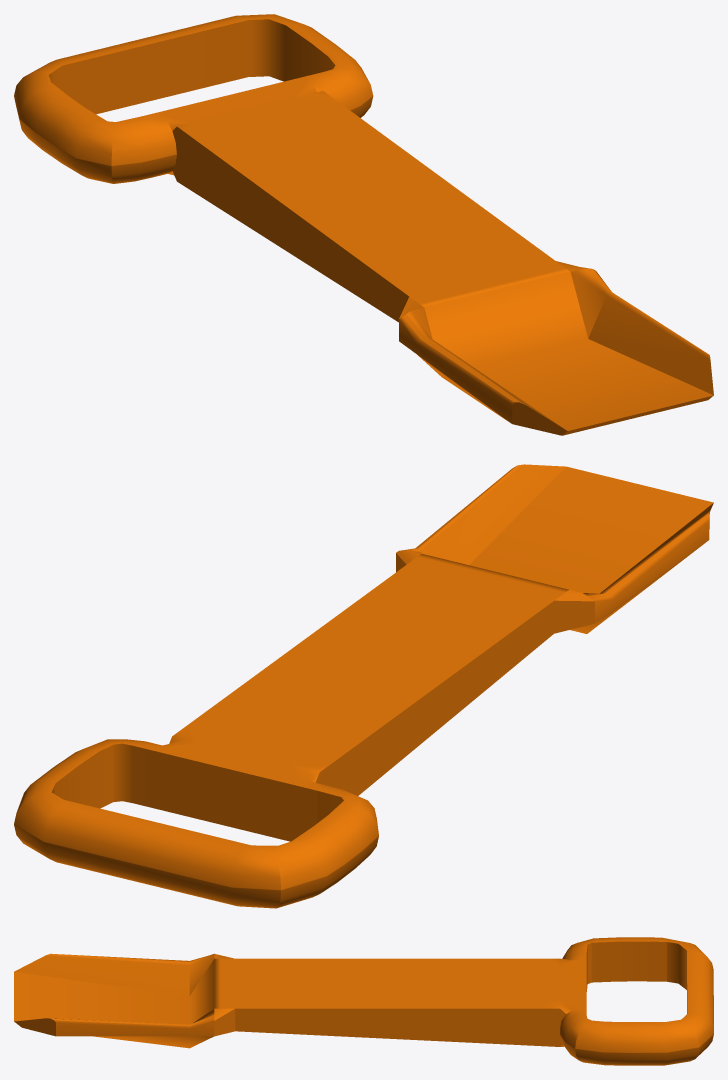
The model's file is Shovel_02.fbx.
The picture shows the model from 3 angles, top to bottom: view 1: azimuth 30°, elevation 25°; view 2: azimuth 150°, elevation 25°; view 3: azimuth 270°, elevation 25°; orthographic projection. The views are drawn at different scales.
Visible parts, largest first — view 1: pCube3; view 2: pCube3; view 3: pCube3.
Part boxes in pixels (x1,y1,x2,y2): pCube3: (14,14,713,435); pCube3: (14,464,713,908); pCube3: (14,937,713,1065).
Bounding box in the file's own units: 13.35 × 2.4 × 38.28.
